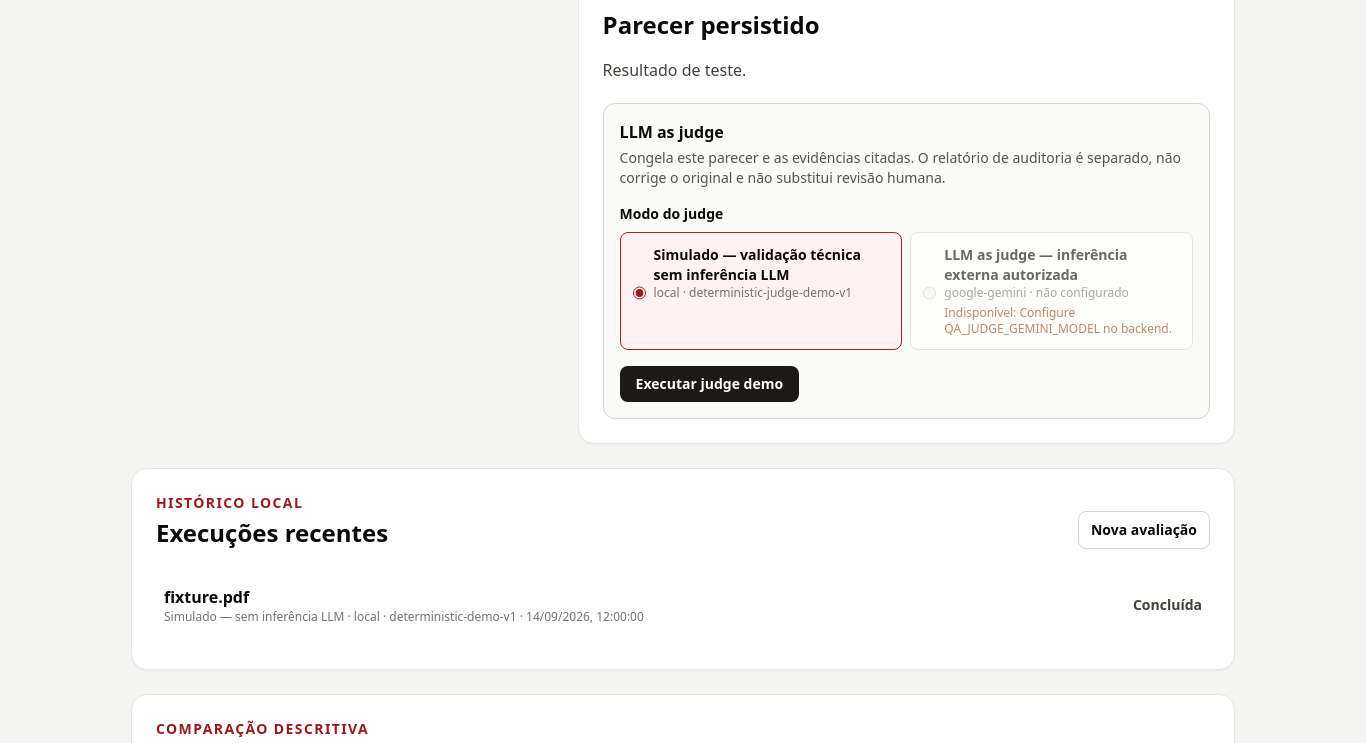
Evaluation › executa o judge demo sobre um snapshot sem alterar o parecer exibido
The image size is (1366, 743).
(page scrolled)
Click the button "Executar judge demo" at x=709, y=384, box left=620, top=366, right=799, bottom=402
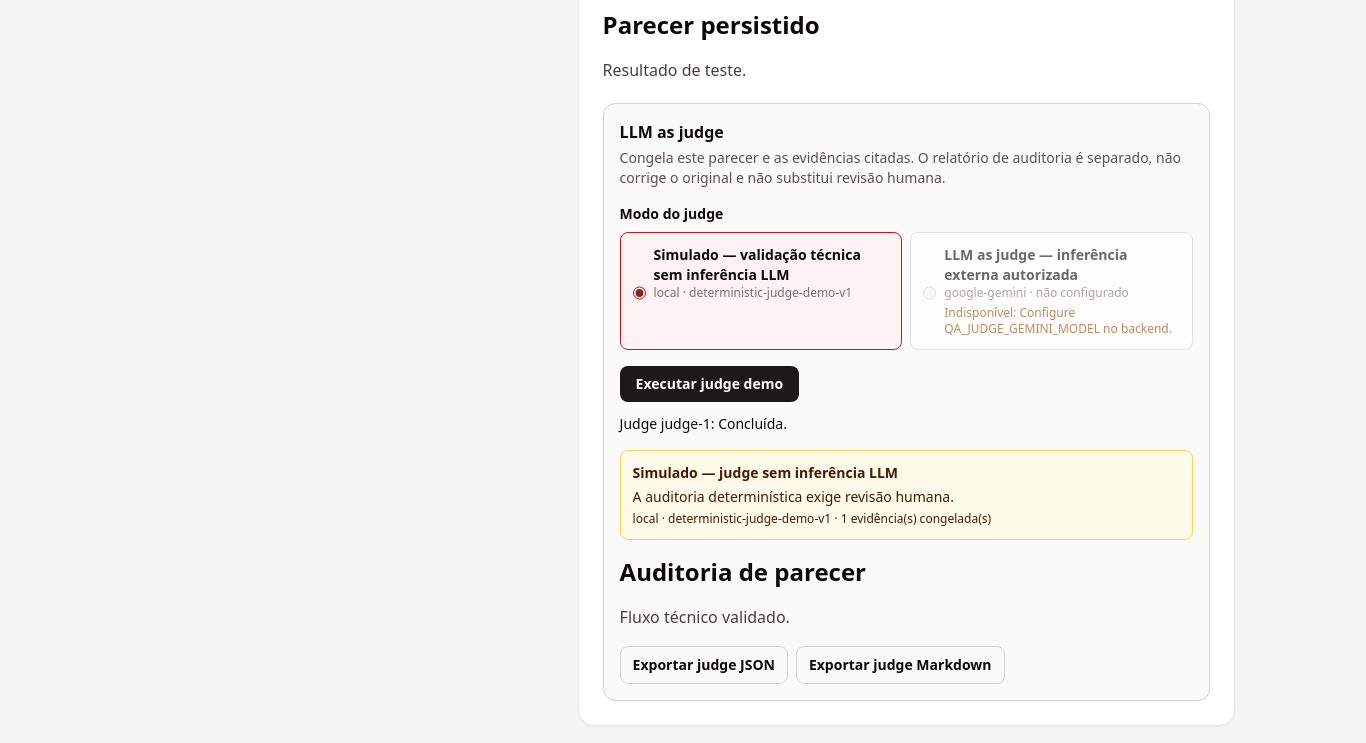
Now the text "Fluxo técnico validado." is shown, box left=620, top=606, right=790, bottom=628
Now the button "Exportar judge JSON" is enabled, box left=620, top=646, right=788, bottom=684
Now the button "Exportar judge Markdown" is enabled, box left=796, top=646, right=1004, bottom=684
